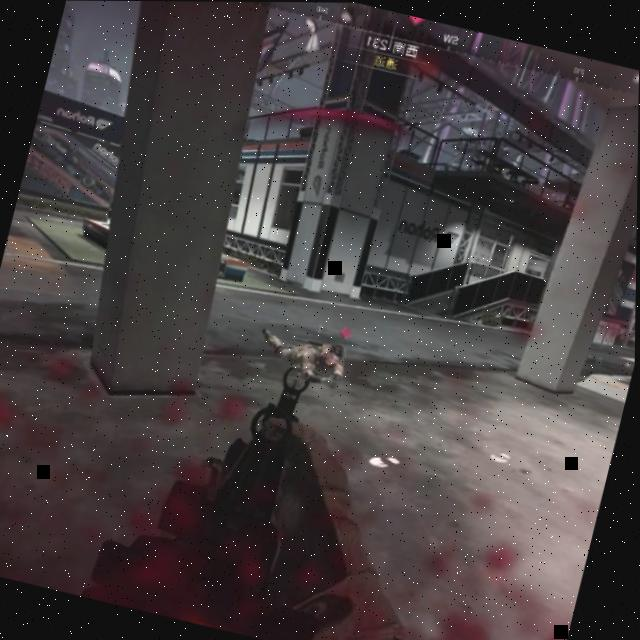MW2_body: (254, 307, 356, 389)
